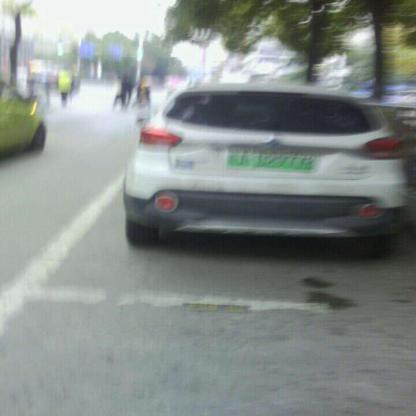lp: (228, 144, 317, 171)
